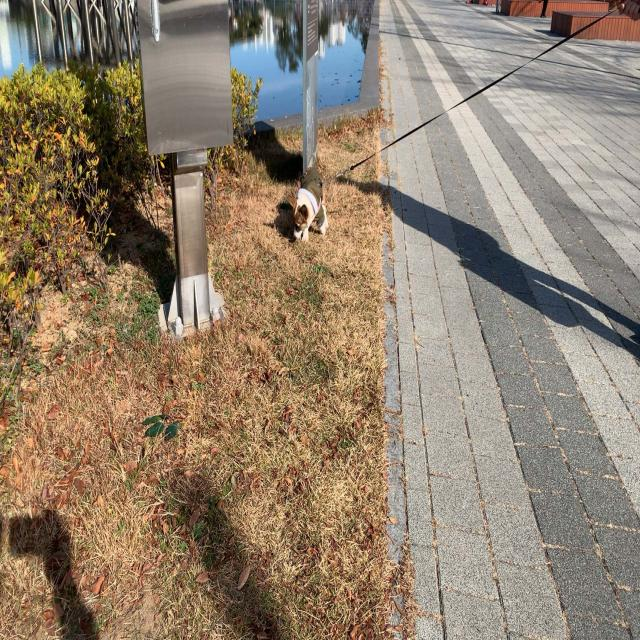Dog: (284, 167, 330, 244)
